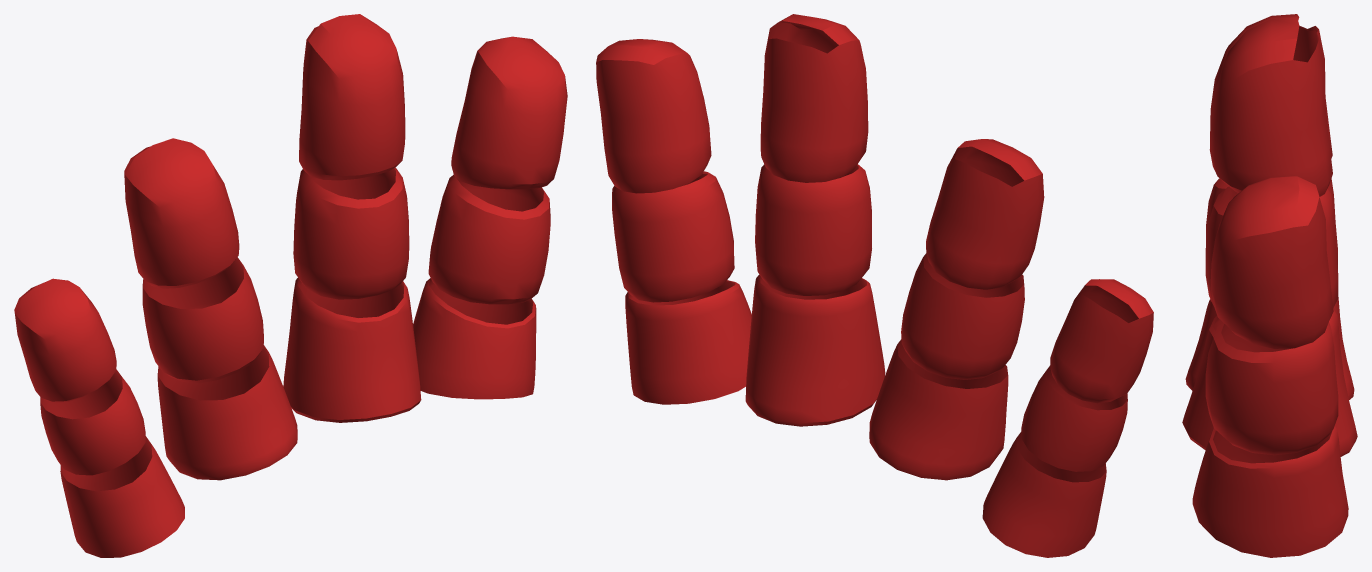
The model's file is MoreFingers.fbx.
3 views of the same model, side by side, from view 1: azimuth 30°, elevation 25°; view 2: azimuth 150°, elevation 25°; view 3: azimuth 270°, elevation 25° (orthographic). The views are drawn at different scales.
Visible parts, largest first — view 1: middleProx, middleTip, IndexFinger_Tip, ringTip, middleMid, ringProx, indexMid, indexProx, ringMid, pinkyProx, pinkeyTip, pinkymid; view 2: middleProx, middleTip, IndexFinger_Tip, ringTip, ringProx, middleMid, indexProx, indexMid, ringMid, pinkyProx, pinkeyTip, pinkymid; view 3: IndexFinger_Tip, middleTip, indexProx, indexMid, middleProx, middleMid, ringProx, ringTip, ringMid.
Part boxes in pixels (x1=…): middleProx: x1=283, y1=278, x2=421, y2=422; middleTip: x1=299, y1=14, x2=405, y2=180; IndexFinger_Tip: x1=451, y1=36, x2=567, y2=189; ringTip: x1=124, y1=138, x2=239, y2=288; middleMid: x1=293, y1=167, x2=409, y2=299; ringProx: x1=157, y1=345, x2=297, y2=480; indexMid: x1=428, y1=175, x2=550, y2=304; indexProx: x1=413, y1=278, x2=536, y2=399; ringMid: x1=142, y1=257, x2=263, y2=383; pinkyProx: x1=60, y1=436, x2=184, y2=557; pinkeyTip: x1=14, y1=278, x2=116, y2=402; pinkymid: x1=40, y1=369, x2=145, y2=475; middleProx: x1=745, y1=274, x2=885, y2=426; middleTip: x1=760, y1=14, x2=868, y2=182; IndexFinger_Tip: x1=596, y1=39, x2=711, y2=193; ringTip: x1=926, y1=139, x2=1044, y2=289; ringProx: x1=869, y1=339, x2=1008, y2=480; middleMid: x1=755, y1=164, x2=871, y2=295; indexProx: x1=625, y1=280, x2=751, y2=404; indexMid: x1=612, y1=171, x2=734, y2=302; ringMid: x1=901, y1=253, x2=1024, y2=379; pinkyProx: x1=982, y1=432, x2=1106, y2=557; pinkeyTip: x1=1050, y1=279, x2=1153, y2=403; pinkymid: x1=1021, y1=365, x2=1127, y2=471; IndexFinger_Tip: x1=1210, y1=176, x2=1333, y2=348; middleTip: x1=1209, y1=17, x2=1332, y2=196; indexProx: x1=1192, y1=424, x2=1348, y2=557; indexMid: x1=1205, y1=321, x2=1338, y2=455; middleProx: x1=1182, y1=308, x2=1357, y2=456; middleMid: x1=1205, y1=186, x2=1338, y2=307; ringProx: x1=1185, y1=297, x2=1354, y2=399; ringTip: x1=1210, y1=14, x2=1332, y2=158; ringMid: x1=1206, y1=178, x2=1337, y2=268.
Bounding box in the file's own units: 70.69 × 57.88 × 18.
